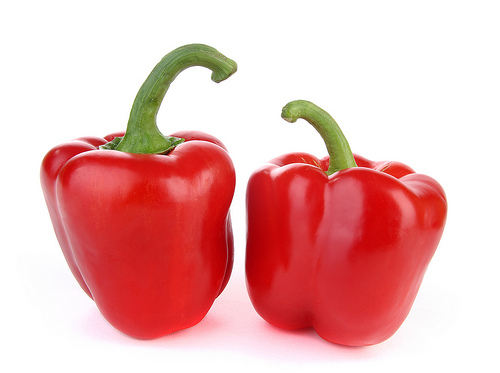capsicum: (40, 42, 238, 343), (244, 99, 449, 348)
